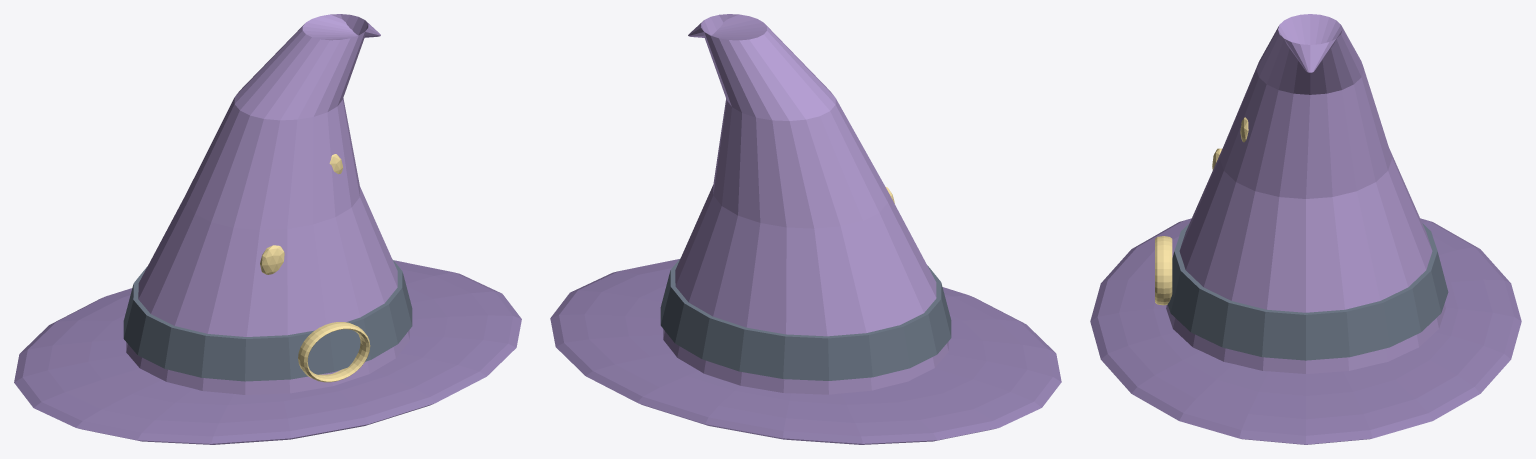
The picture shows the model from 3 angles, left to right: view 1: azimuth 30°, elevation 25°; view 2: azimuth 150°, elevation 25°; view 3: azimuth 270°, elevation 25°; orthographic projection. The views are drawn at different scales.
Visible parts, largest first — view 1: Copa curva, Aba elíptica, Faixa, Fivela, Estrela; view 2: Copa curva, Aba elíptica, Faixa; view 3: Copa curva, Aba elíptica, Faixa, Fivela.
Boxes of the visible parts, <box> form: Copa curva: <box>126,14,409,394</box>; Aba elíptica: <box>14,260,521,444</box>; Faixa: <box>123,259,412,381</box>; Fivela: <box>298,322,370,382</box>; Estrela: <box>260,245,284,274</box>; Copa curva: <box>663,14,948,394</box>; Aba elíptica: <box>550,259,1061,444</box>; Faixa: <box>660,258,951,380</box>; Copa curva: <box>1166,14,1445,373</box>; Aba elíptica: <box>1090,218,1521,444</box>; Faixa: <box>1167,223,1448,360</box>; Fivela: <box>1155,236,1172,305</box>.
Bounding box in the file's own units: 2.7 × 1.77 × 2.
